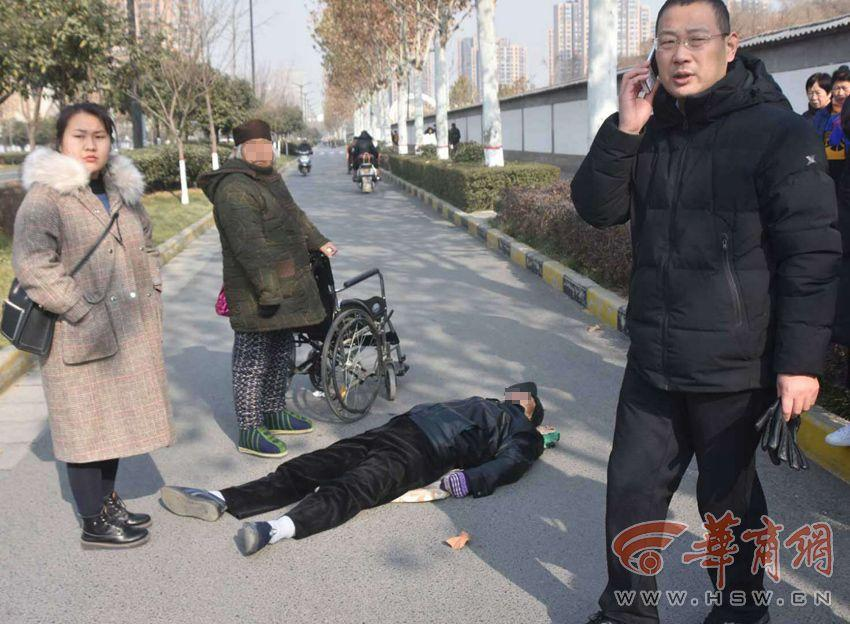down: (150, 376, 550, 560)
up: (568, 1, 836, 624), (7, 100, 158, 550), (195, 122, 330, 460)
